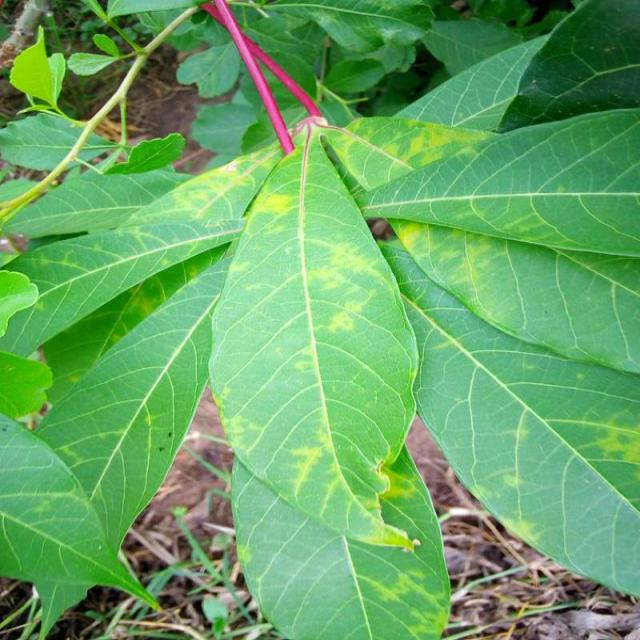cassava leaf: (0, 1, 638, 638), (207, 117, 450, 637)
